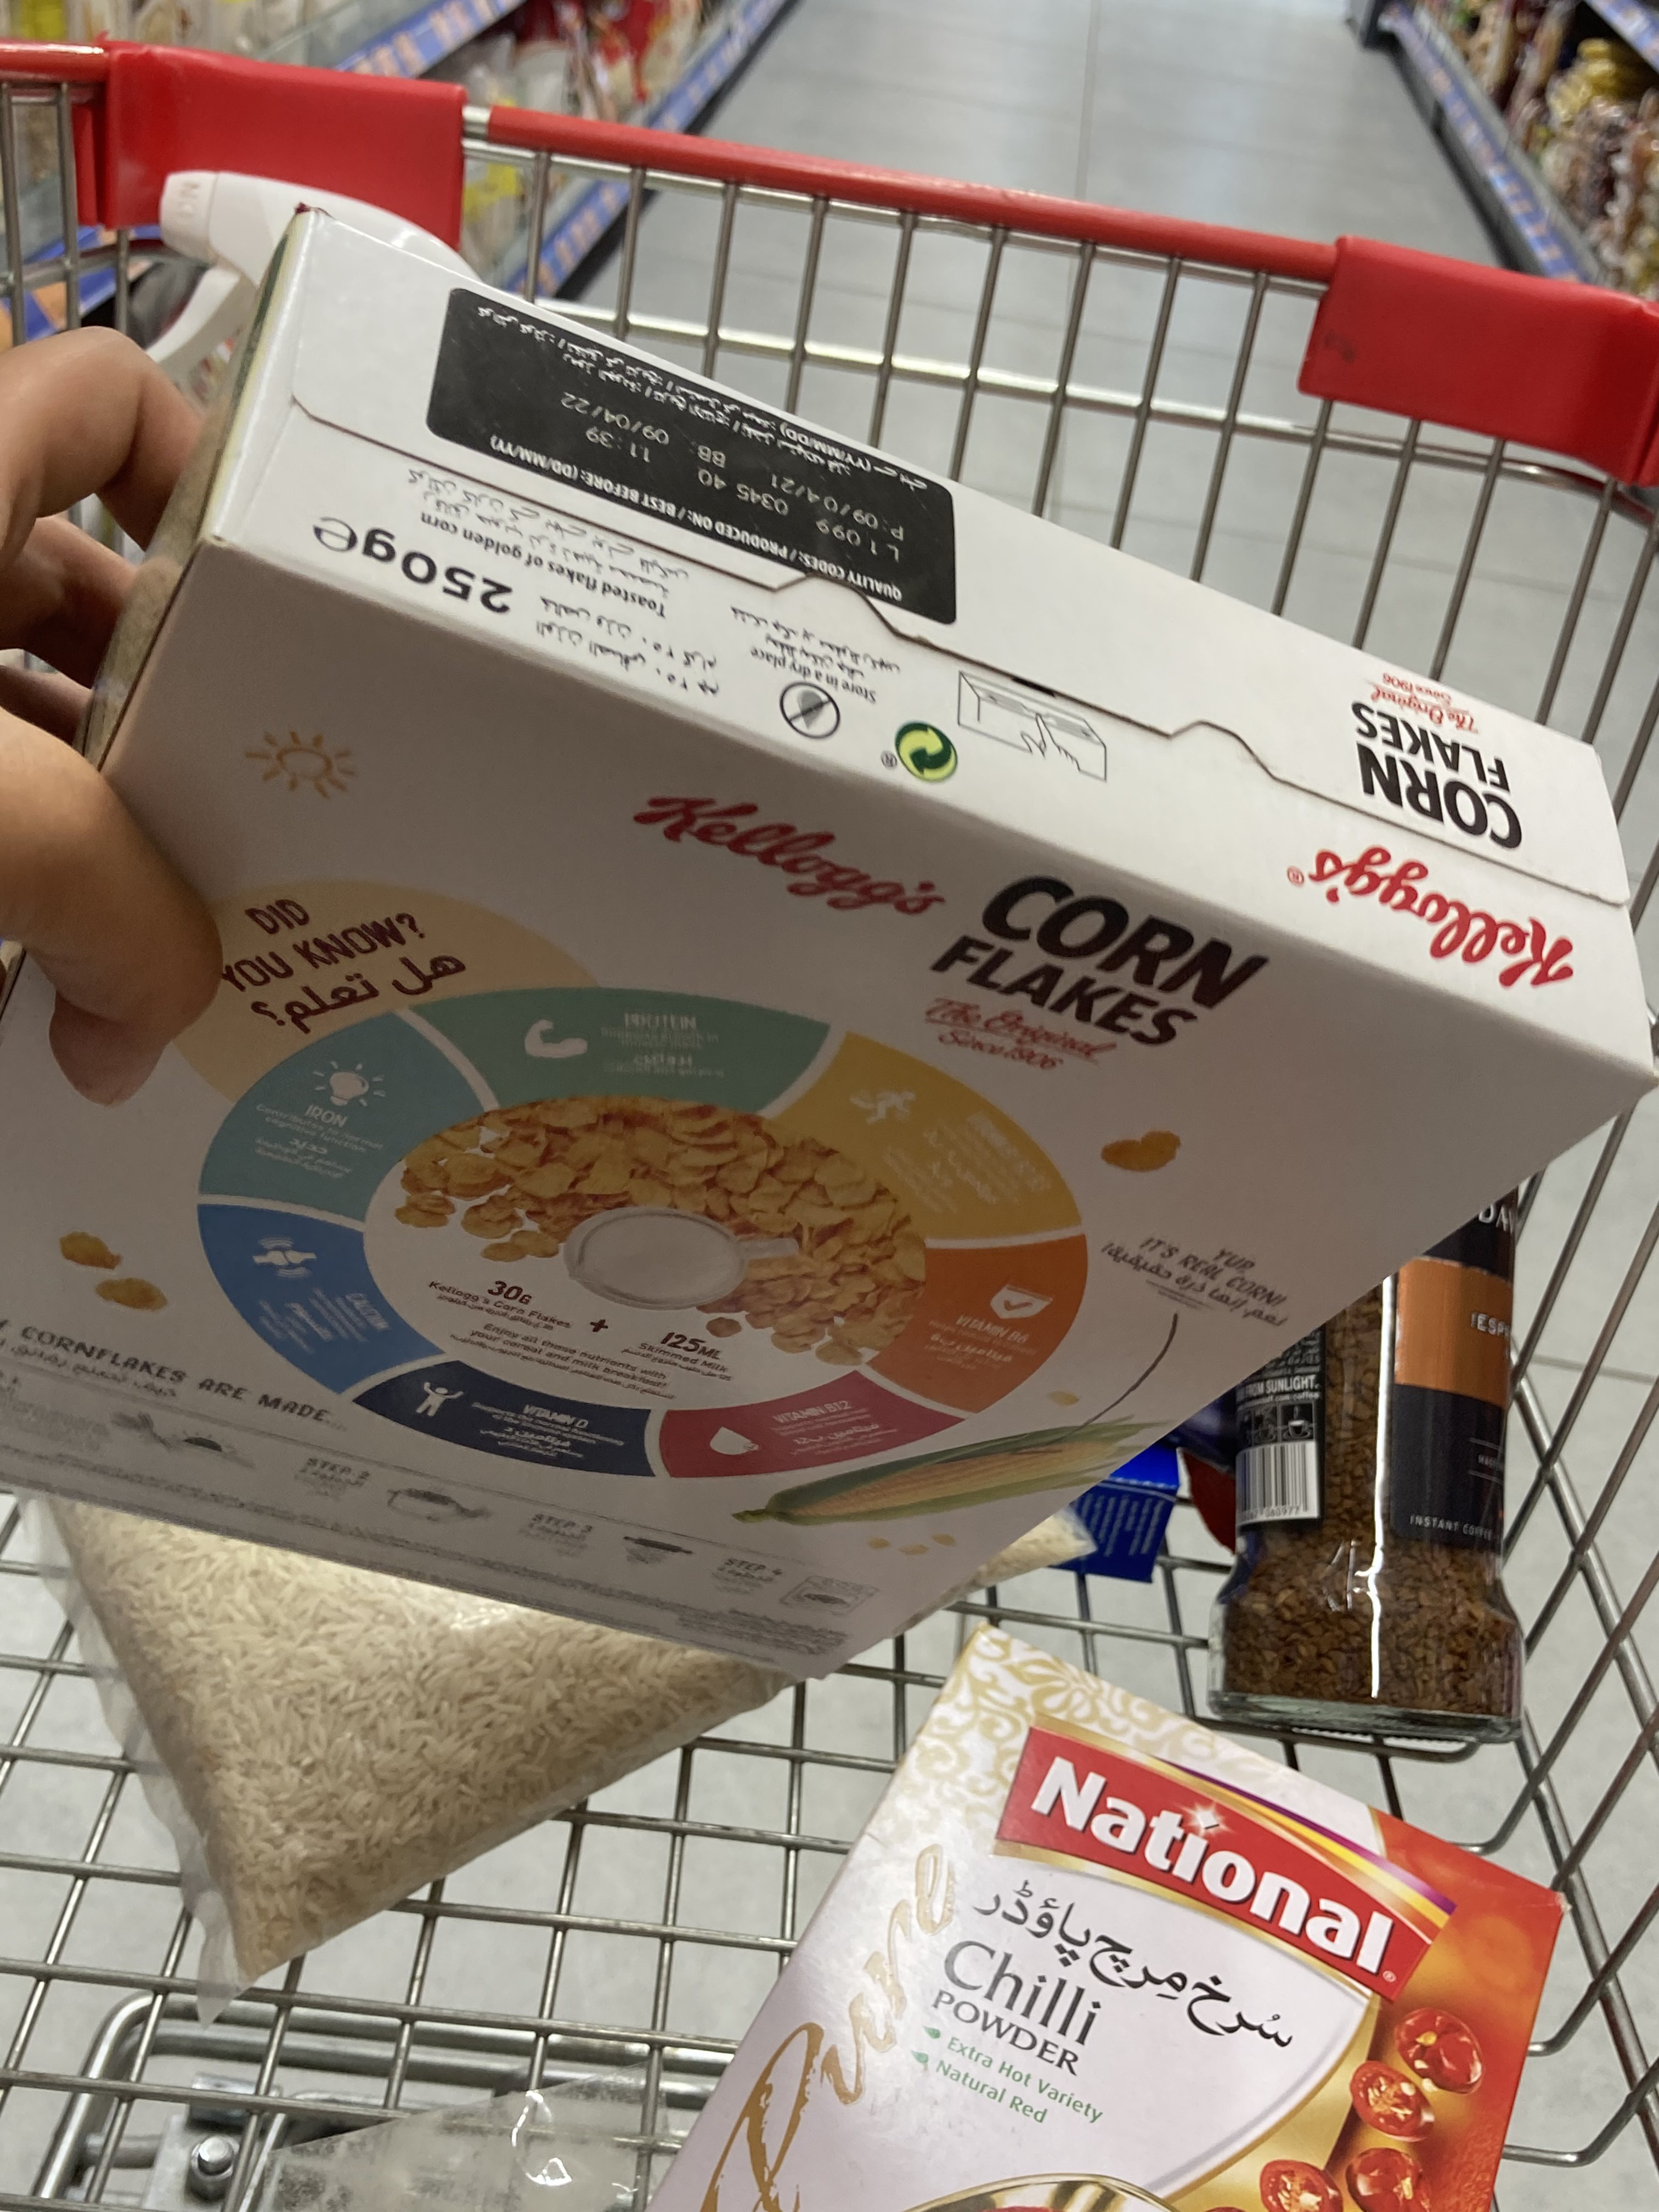Kellogg's Corn Flakes: (9, 204, 1659, 1683)
